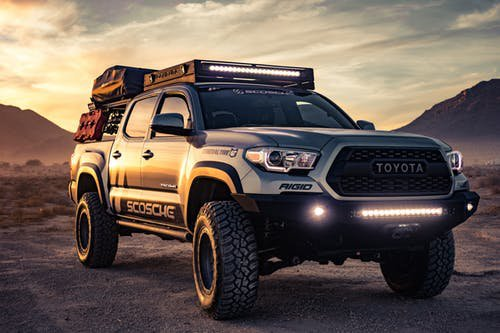car: (68, 57, 484, 316)
